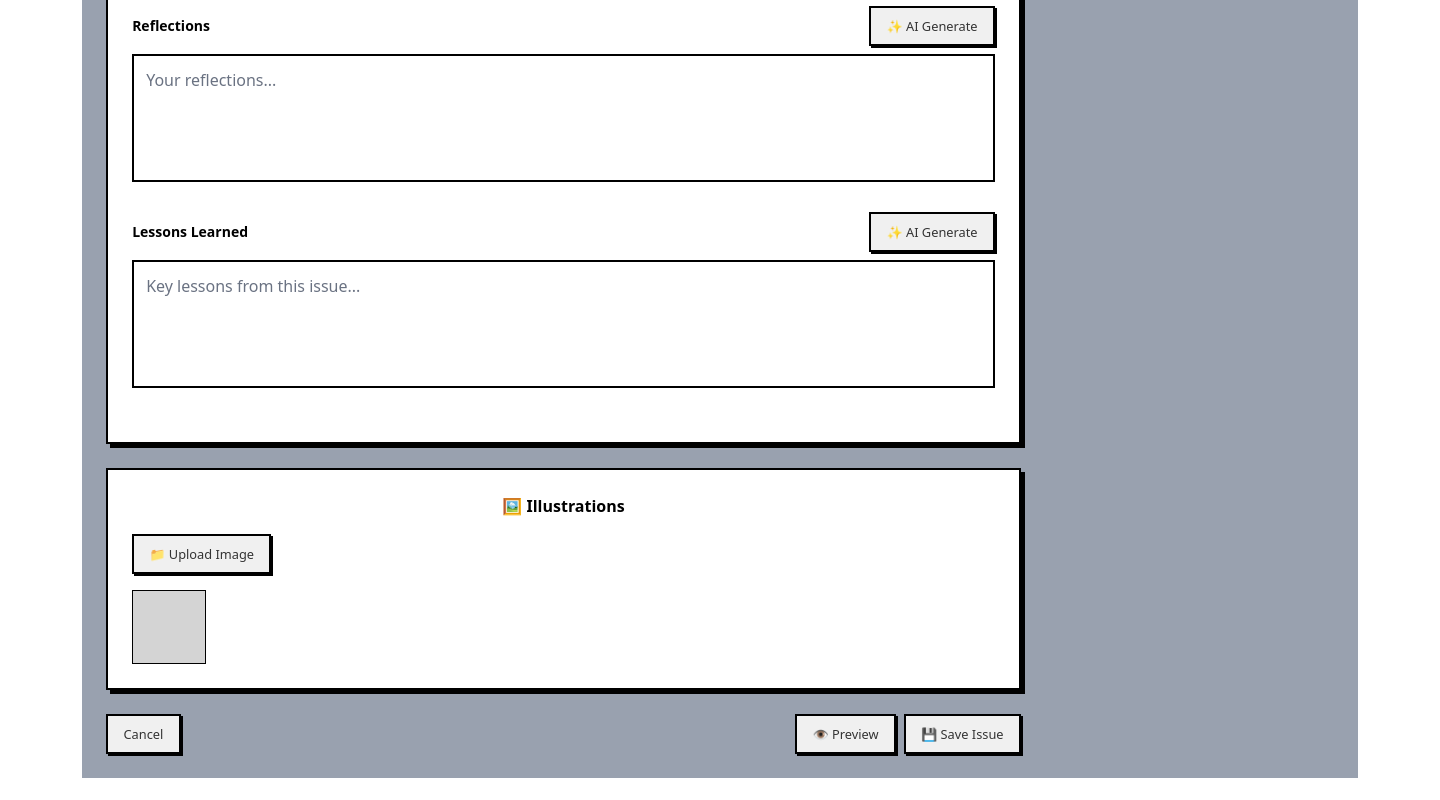
Test: issueEditor component › Form Validation › shows error when title is empty
(page scrolled)
Click the button "💾 Save Issue": (962, 734) [904,714,1021,754]
(page scrolled)
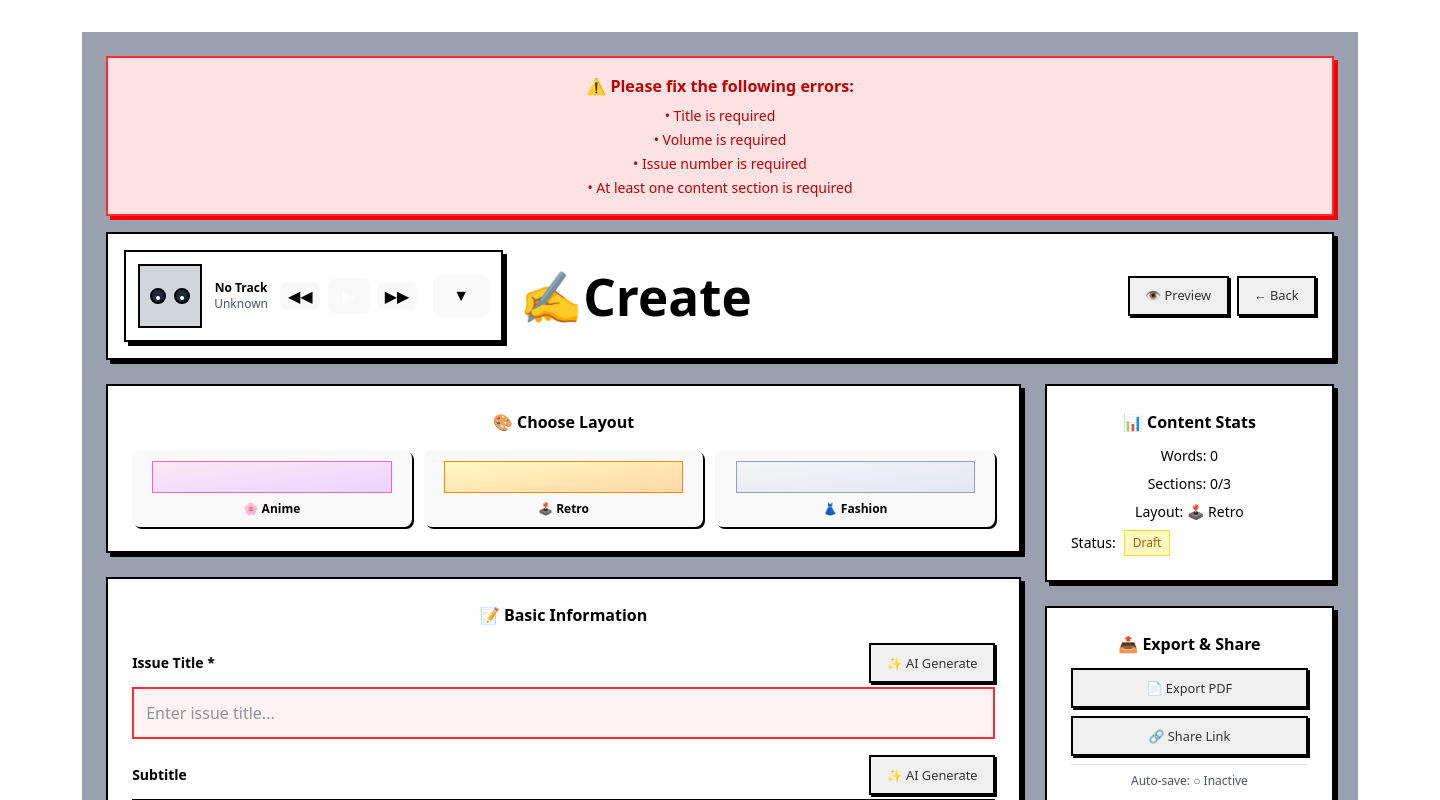
Expected: the list item "• Title is required" is shown, [665,106,775,125]
